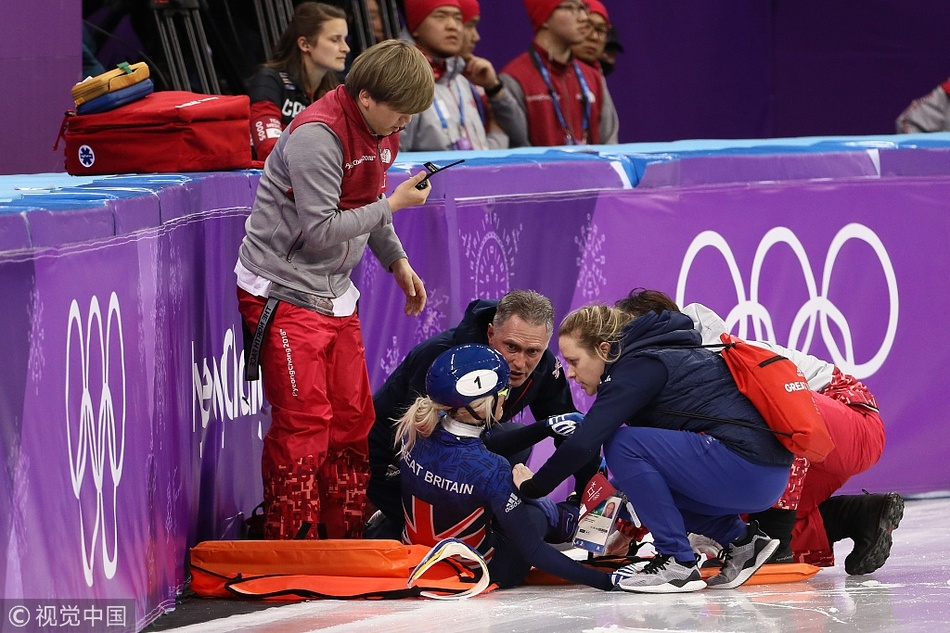falling: (384, 347, 653, 604)
